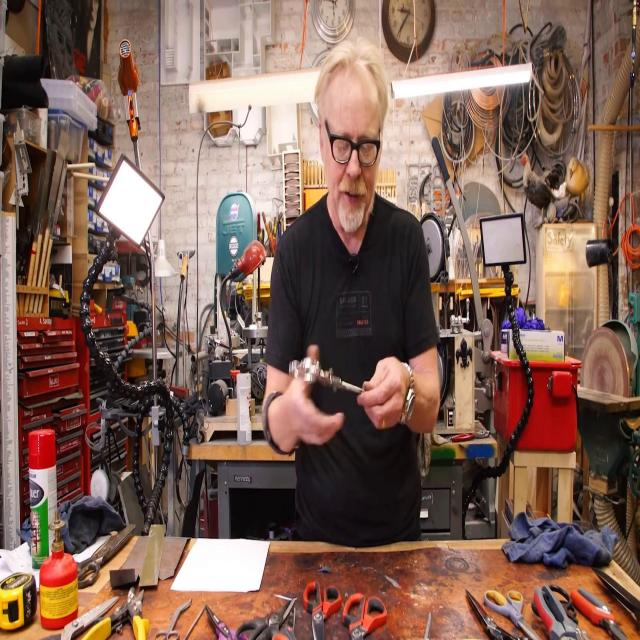scissor: (78, 524, 135, 588), (45, 598, 118, 640), (572, 587, 628, 640), (465, 588, 520, 640), (485, 590, 541, 640), (233, 598, 295, 640), (590, 567, 640, 618), (289, 361, 362, 393), (304, 583, 342, 640), (344, 593, 387, 640), (206, 604, 246, 640), (272, 607, 297, 640)
